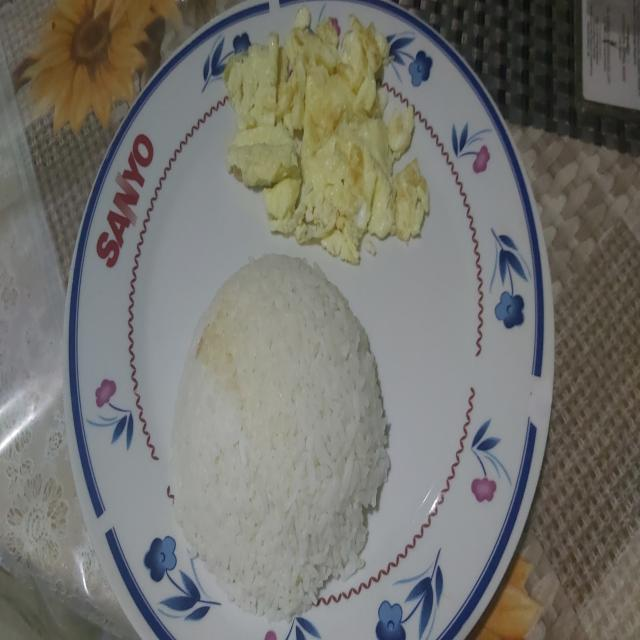Chicken -Chicken Inasal-: (174, 248, 390, 595)
